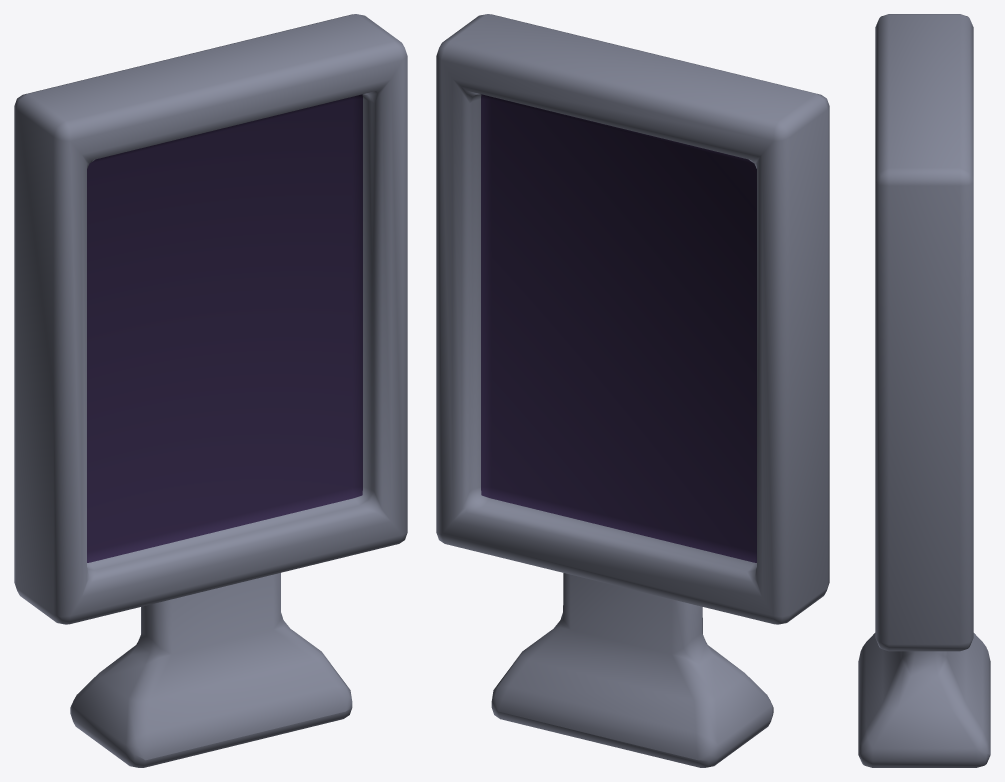
The model's file is TableDecor_02_50s.glb.
3 views of the same model, side by side, from view 1: azimuth 30°, elevation 25°; view 2: azimuth 150°, elevation 25°; view 3: azimuth 270°, elevation 25° (orthographic). The views are drawn at different scales.
Visible parts, largest first — view 1: TableDecor_02_50s; view 2: TableDecor_02_50s; view 3: TableDecor_02_50s.
Boxes of the visible parts, left/top/right/bottom form: TableDecor_02_50s: left=14, top=14, right=407, bottom=767; TableDecor_02_50s: left=436, top=14, right=829, bottom=767; TableDecor_02_50s: left=858, top=14, right=990, bottom=767.
Bounding box in the file's own units: 0.0824 × 0.1465 × 0.0279.
Materials: 1 (1 with a texture image).
